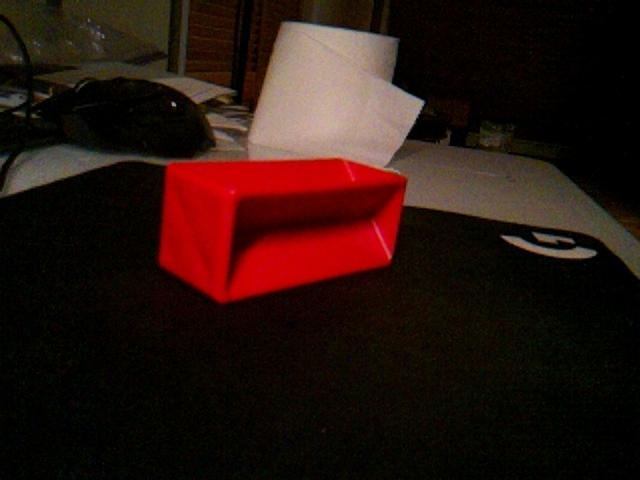red: (157, 157, 409, 305)
